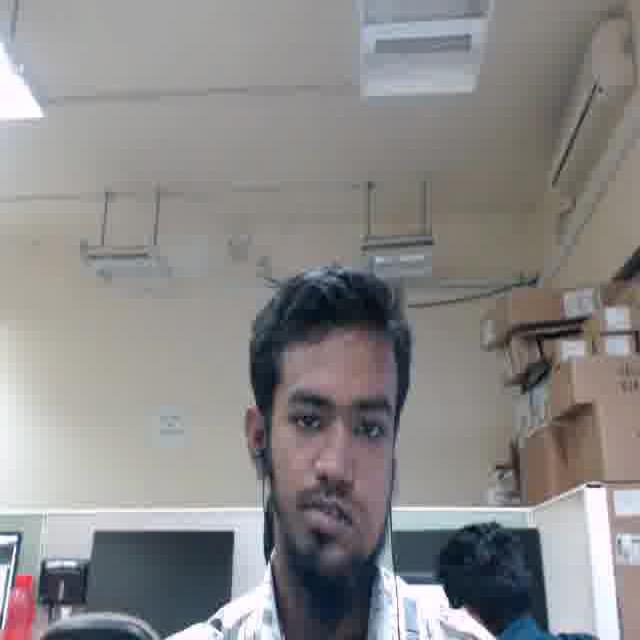Engaged: (268, 336, 400, 573)
